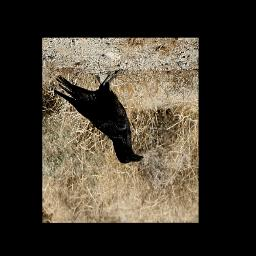Crow: (53, 70, 144, 164)
